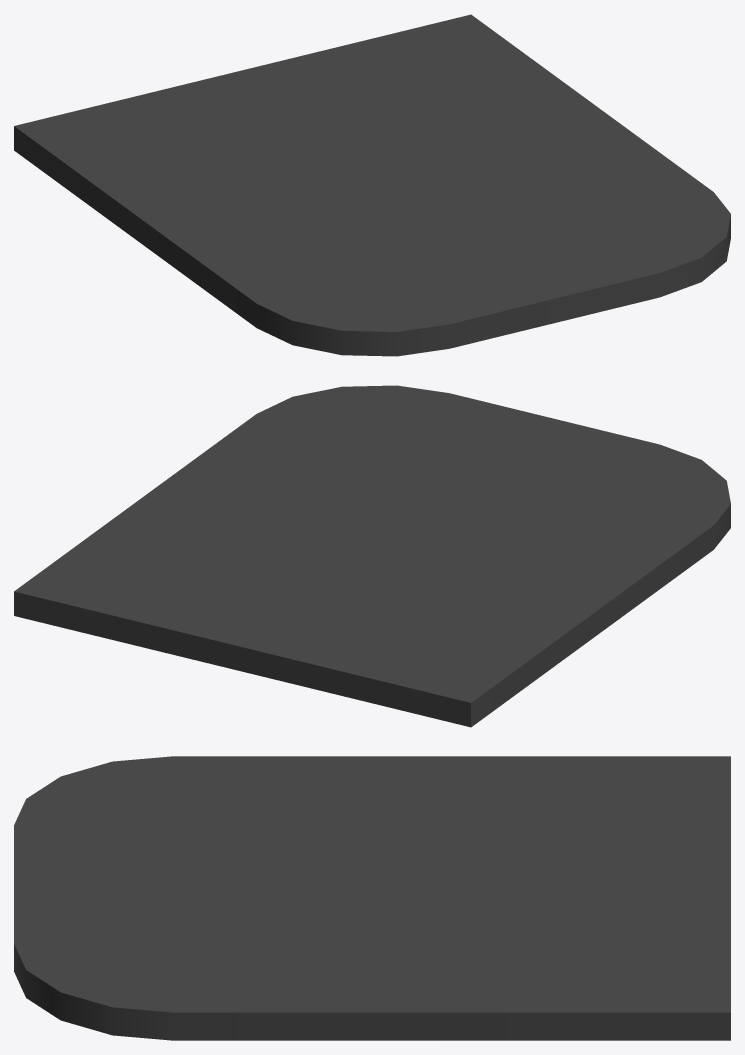
Rendered from Toilet1_C2_03.fbx.
The picture shows the model from 3 angles, top to bottom: view 1: azimuth 30°, elevation 25°; view 2: azimuth 150°, elevation 25°; view 3: azimuth 270°, elevation 25°; orthographic projection. The views are drawn at different scales.
Visible parts, largest first — view 1: Toilet1_C2_03; view 2: Toilet1_C2_03; view 3: Toilet1_C2_03.
Part boxes in pixels (x1,y1,x2,y2): Toilet1_C2_03: (14,14,730,356); Toilet1_C2_03: (14,385,730,727); Toilet1_C2_03: (14,756,730,1040).
Bounding box in the file's own units: 34.34 × 1.76 × 40.6.
